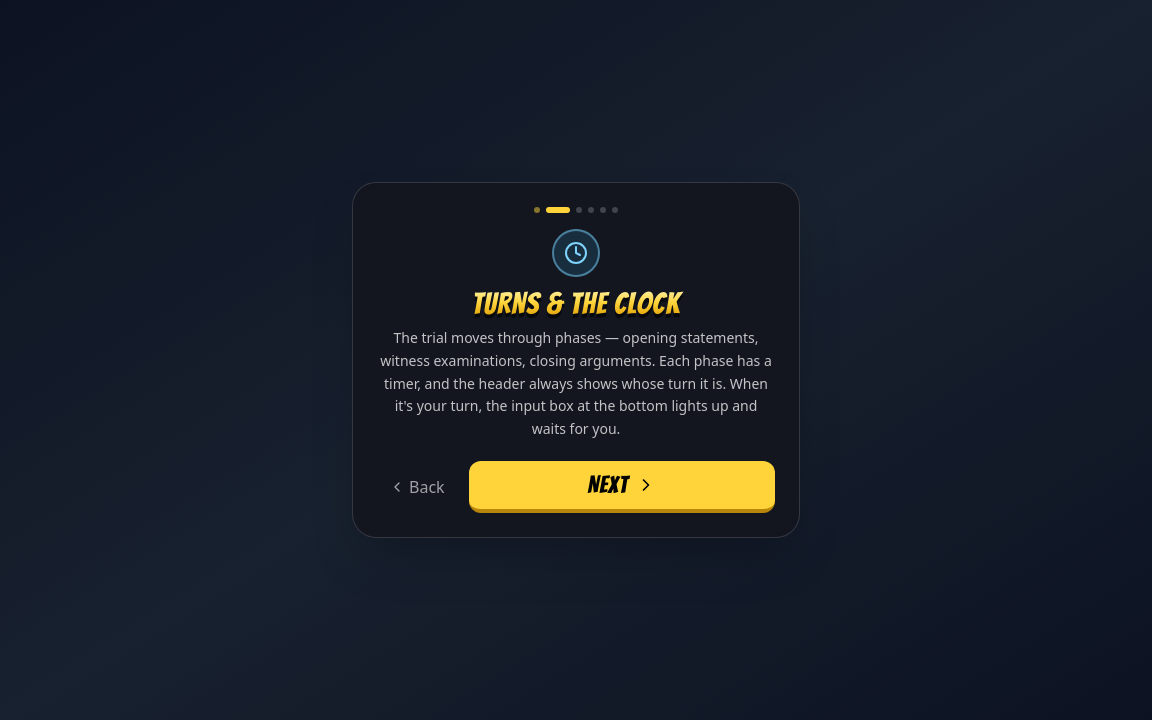
Test: Tutorial › walks through the steps and finishes
This screenshot has width=1152, height=720.
Earlier steps of the test are not shown.
Later steps or results of the test are not shown.
Expected: the heading "Turns & the Clock" is shown, [377,289,775,319]
Step 1. Click the button "Back" → (417, 487), box [377,463,457,511]
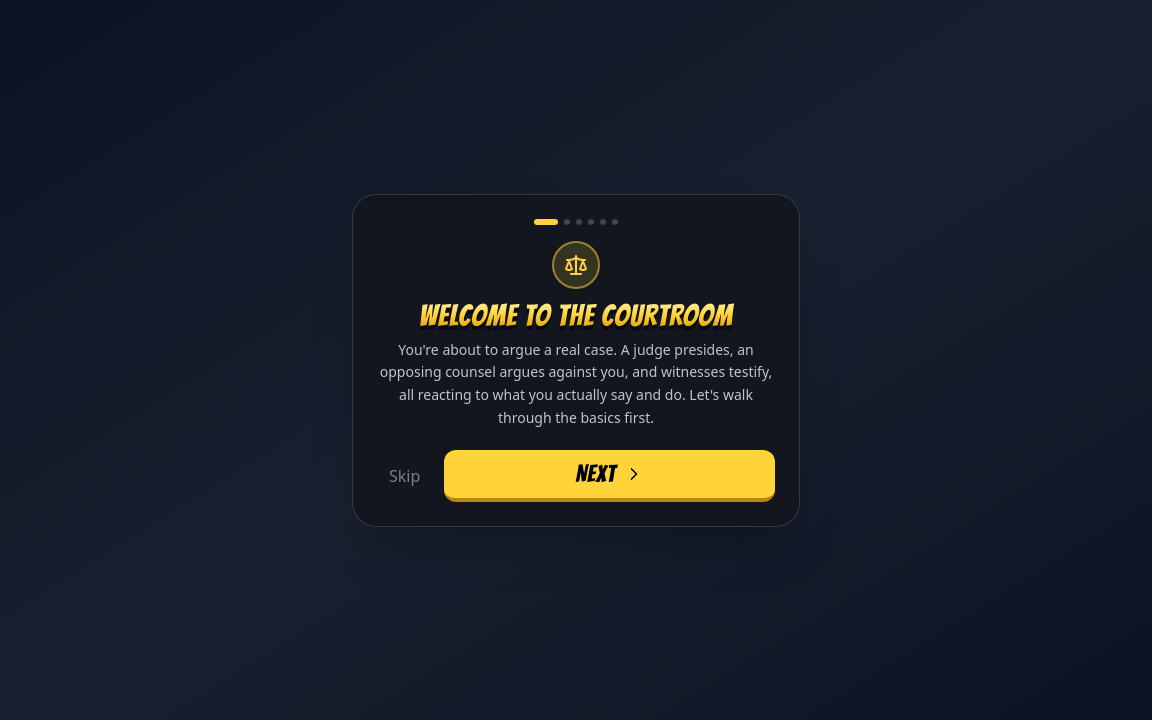
Expected: the heading "Welcome to the Courtroom" is shown, [377,300,775,330]
Step 2. Click the button "Next" → (610, 476), box [444,450,775,502]
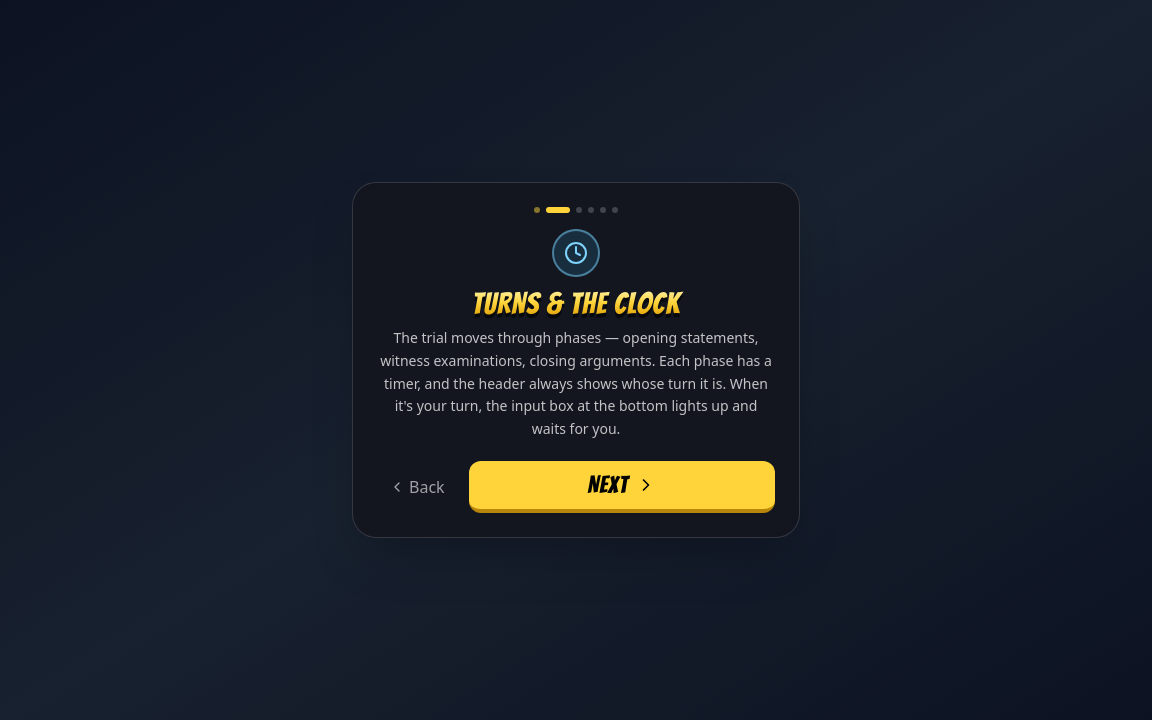
Step 3. Click the button "Next" → (622, 487), box [469,461,775,513]
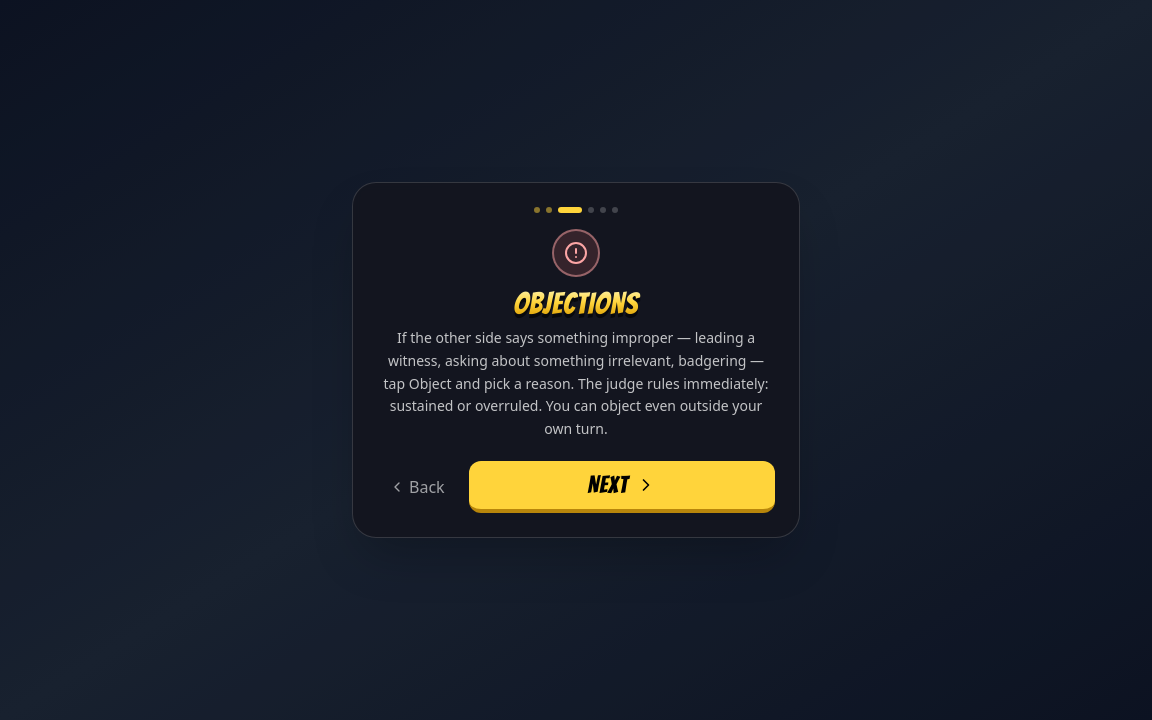
Step 4. Click the button "Next" → (622, 487), box [469,461,775,513]
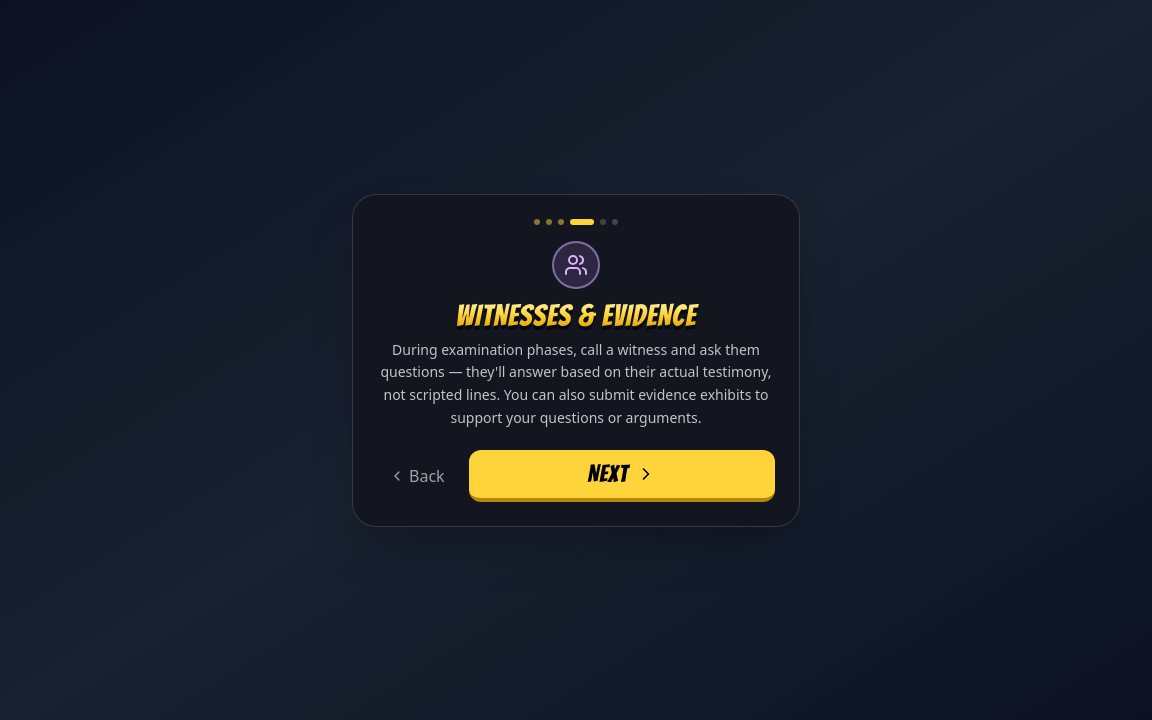
Step 5. Click the button "Next" → (622, 476), box [469,450,775,502]
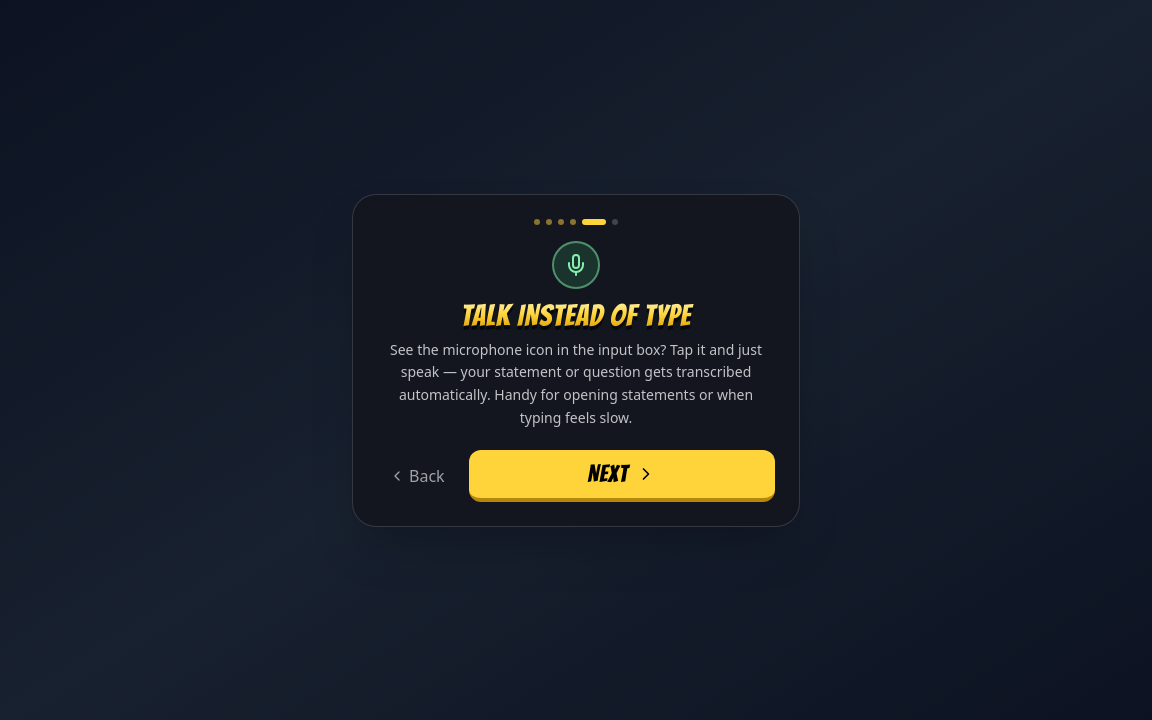
Step 6. Click the button "Next" → (622, 476), box [469,450,775,502]
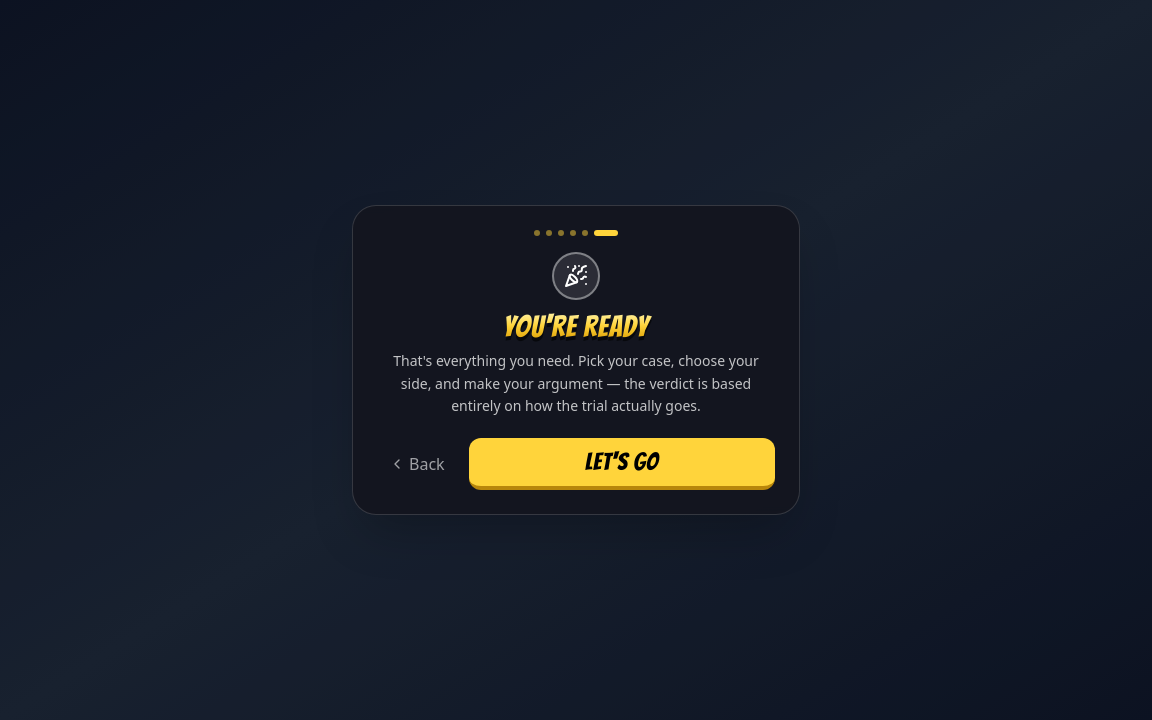
Expected: the heading "You're Ready" is shown, [377,312,775,342]
